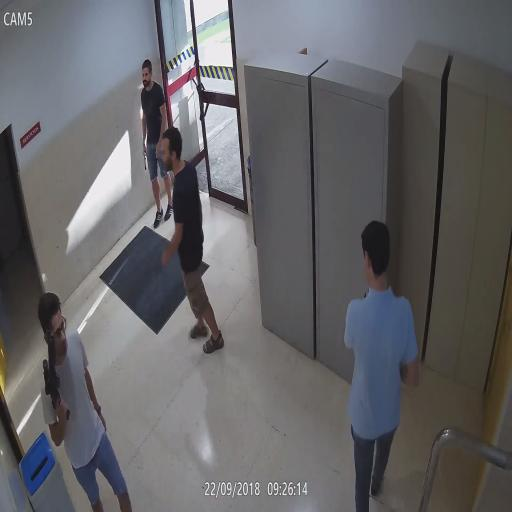Handgun: (141, 143, 148, 171)
